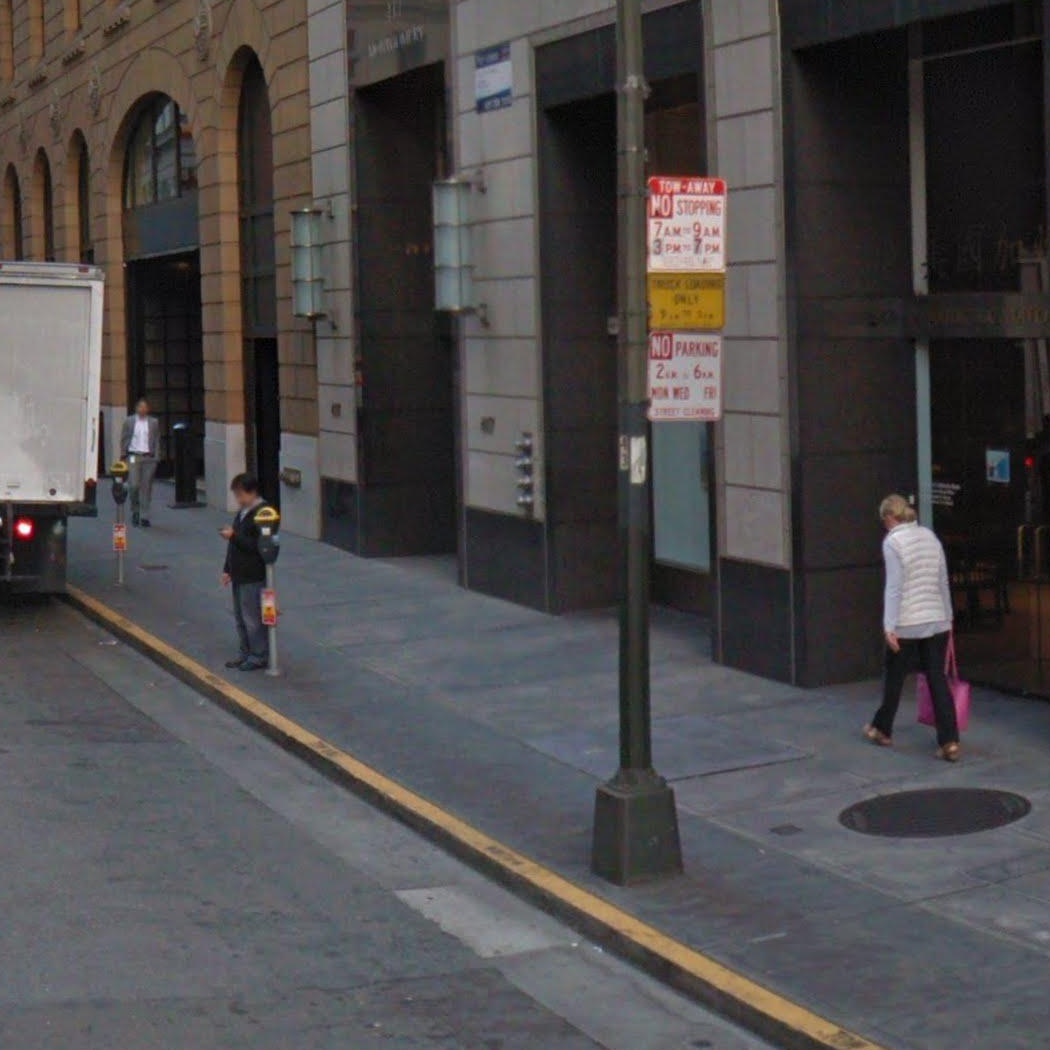No Parking: (646, 329, 724, 422)
